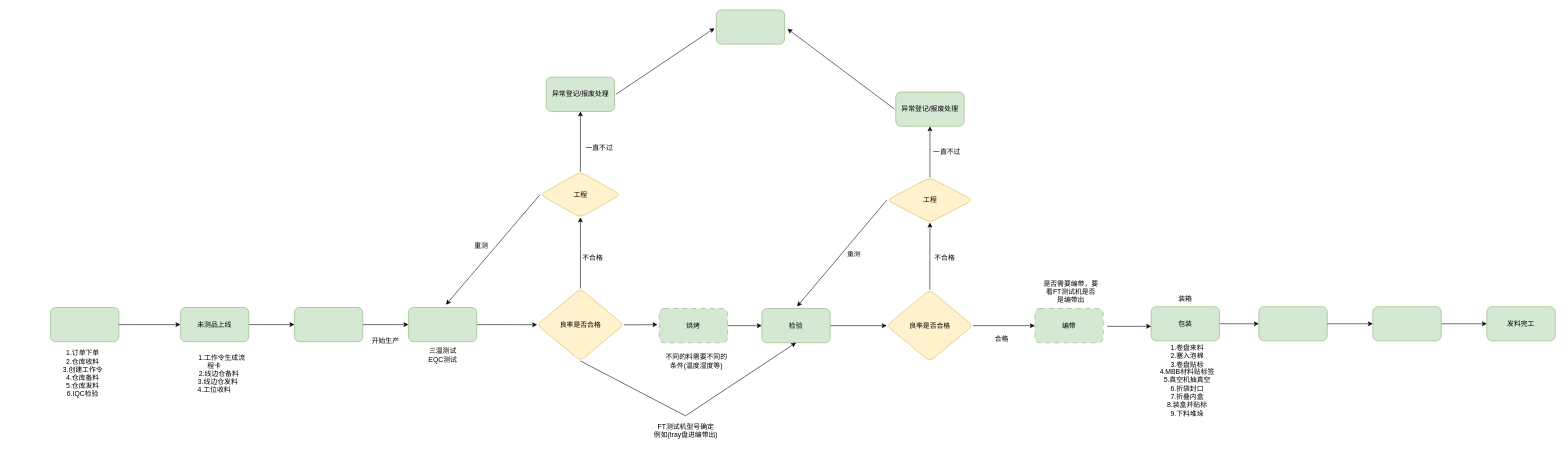
Some shapes in this 1565 by 474 pixel diagram are drawn without their labels. Here are the shapes that lost their labels. From the top down, the centre of each, then its label:
(x=750, y=26): 退返
(x=84, y=324): 未测品入库
(x=328, y=324): 未测品上机
(x=442, y=324): 测试
(x=1292, y=323): FQC
(x=1406, y=323): OQC
